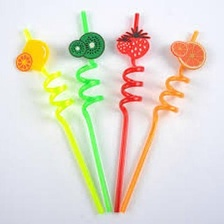drinking_straw: (10, 24, 108, 216), (116, 26, 214, 214), (65, 7, 112, 215), (110, 6, 155, 214)
